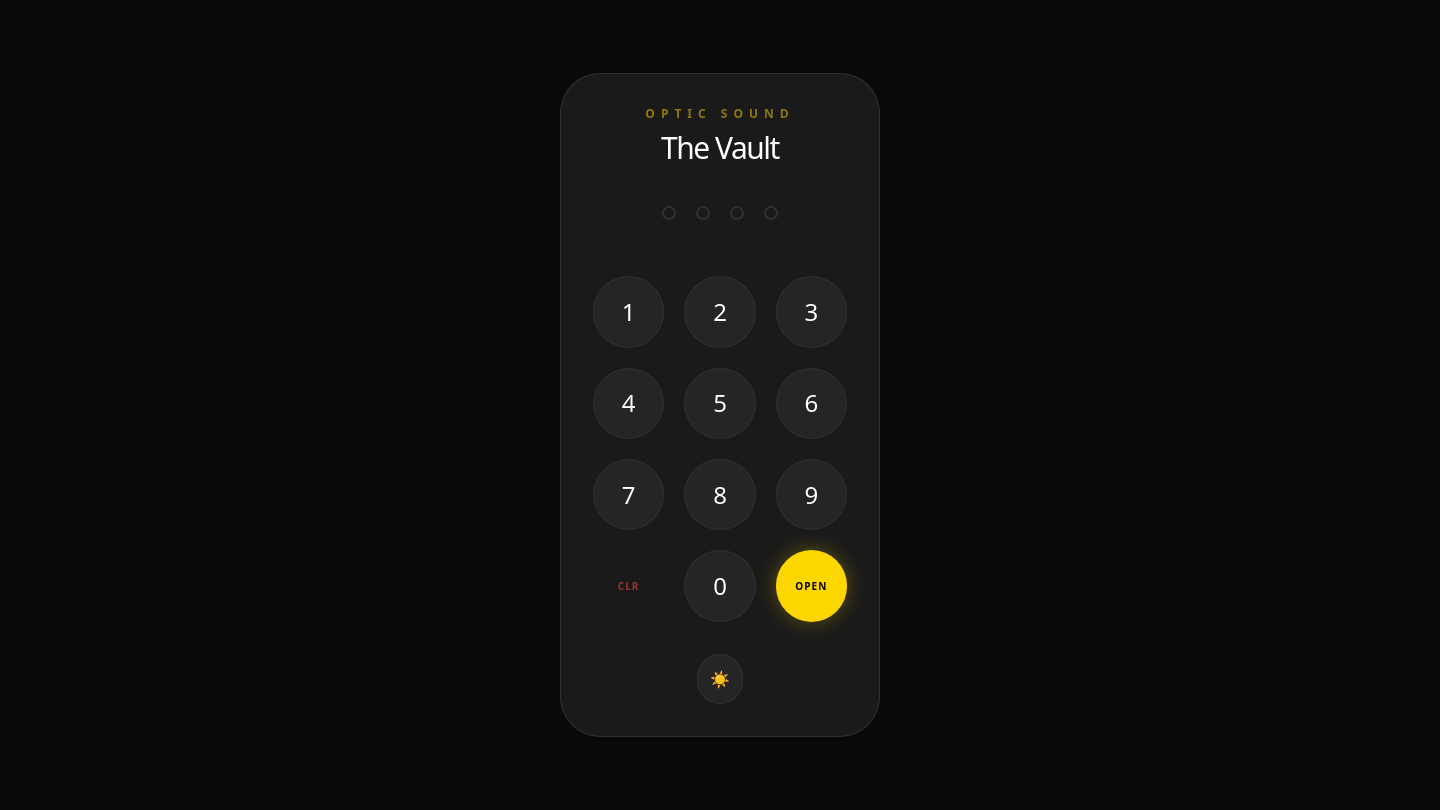
Test: App Component › renders login and unlocks
What coordinates should you click on to do the following:
click the button "1"
I would click on:
 (629, 312)
Its box is [593,276,664,348].
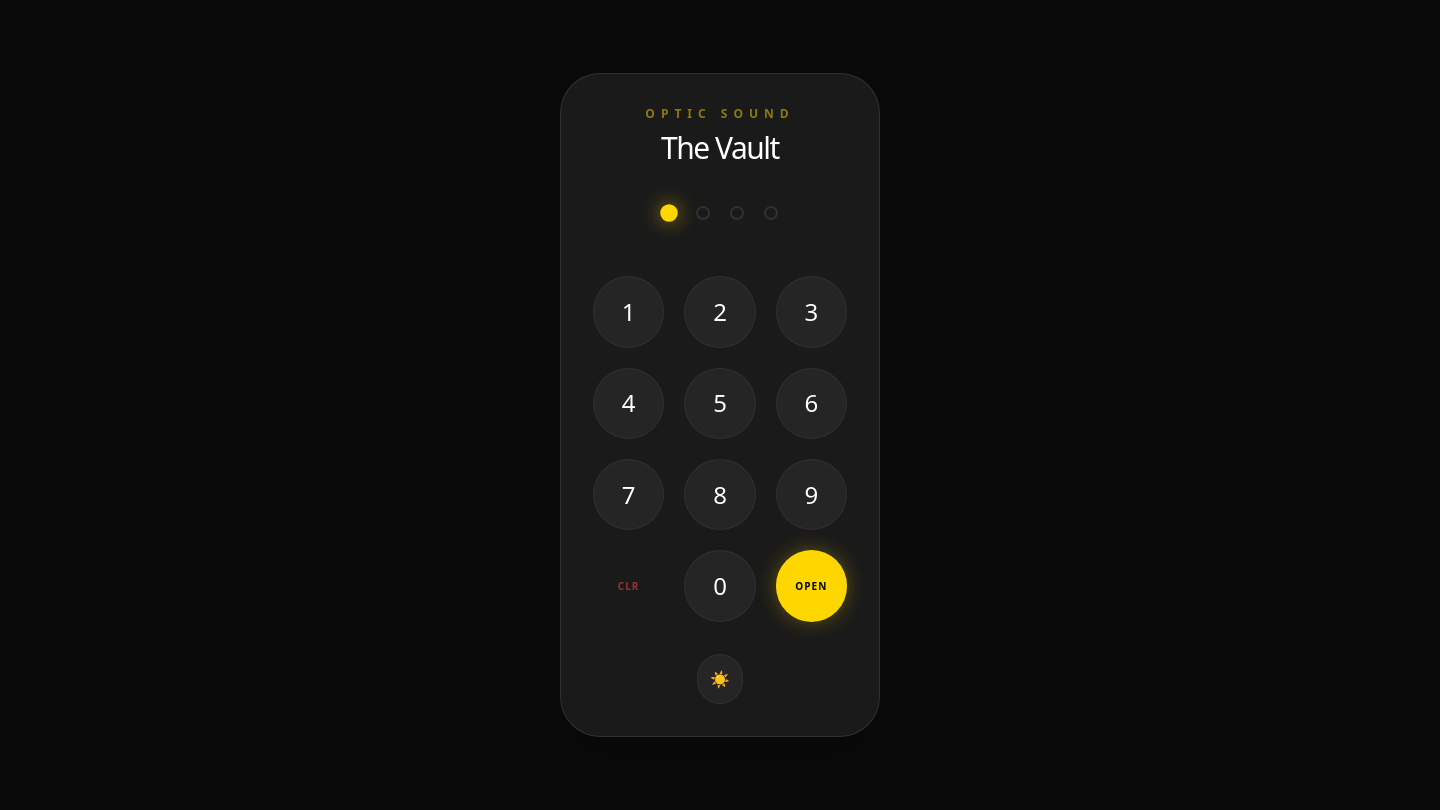
What coordinates should you click on to do the following:
click the button "2"
I would click on:
 (720, 312)
Its box is [684,276,756,348].
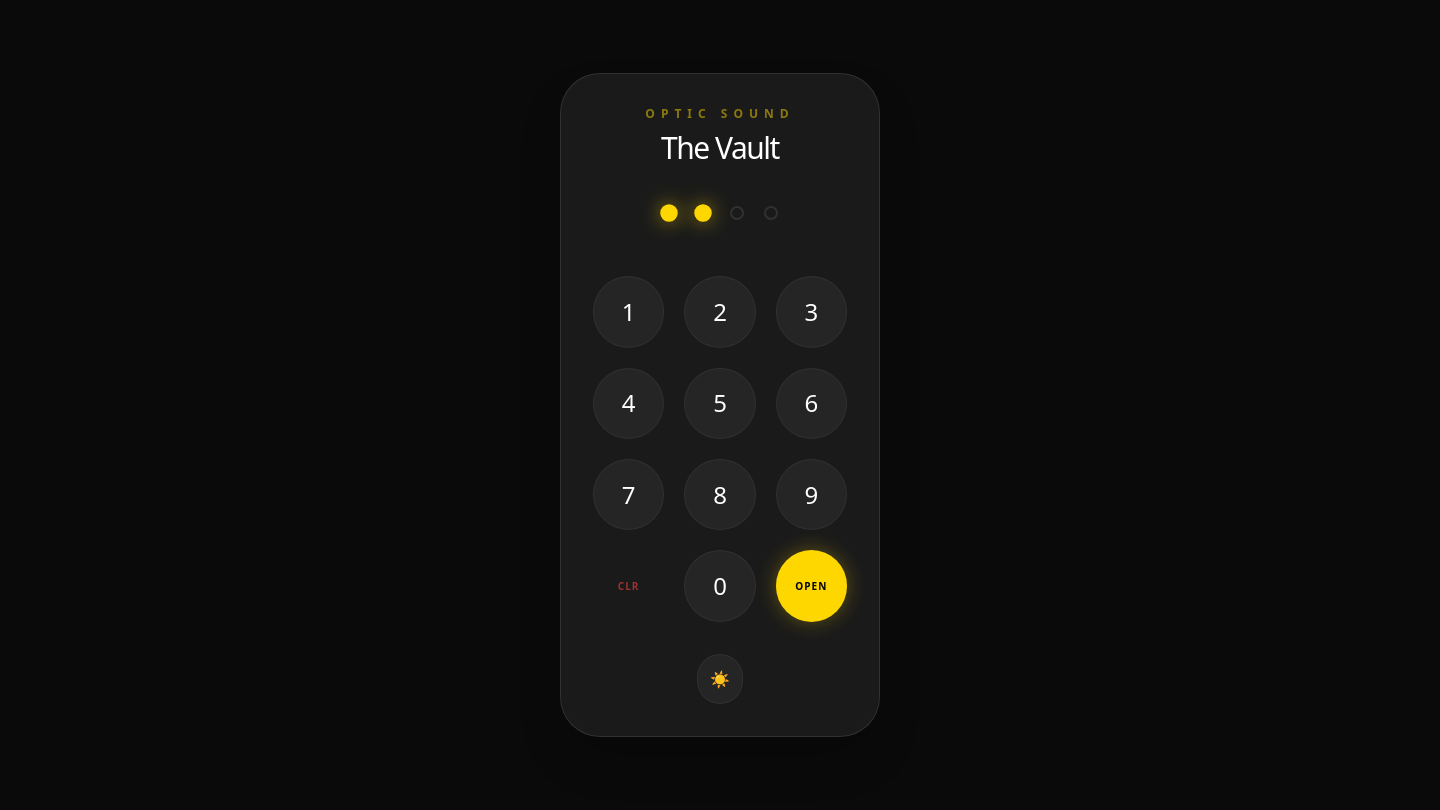
What coordinates should you click on to do the following:
click the button "3"
I would click on:
 (811, 312)
Its box is [776,276,847,348].
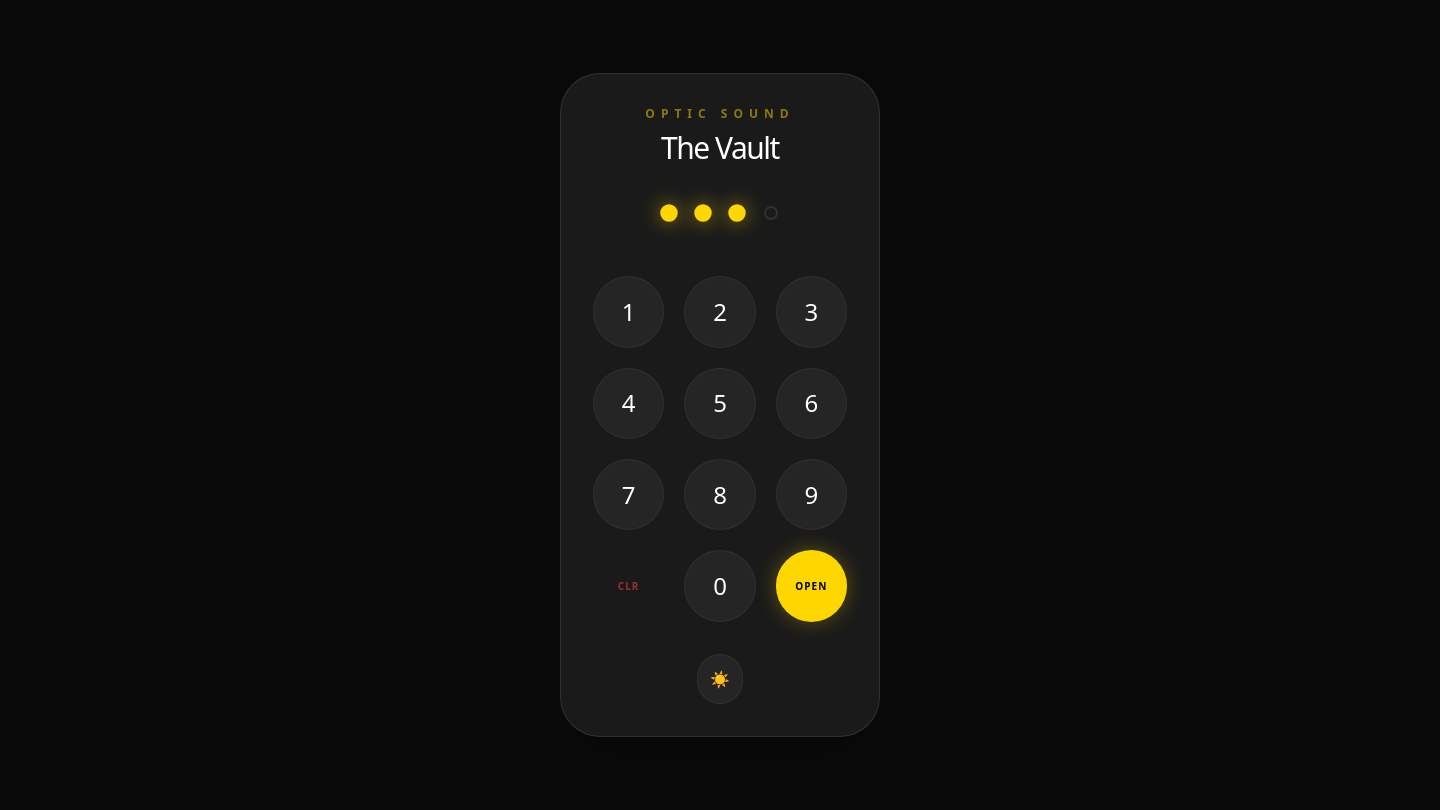
What coordinates should you click on to do the following:
click the button "4"
I would click on:
 (629, 403)
Its box is [593,368,664,439].
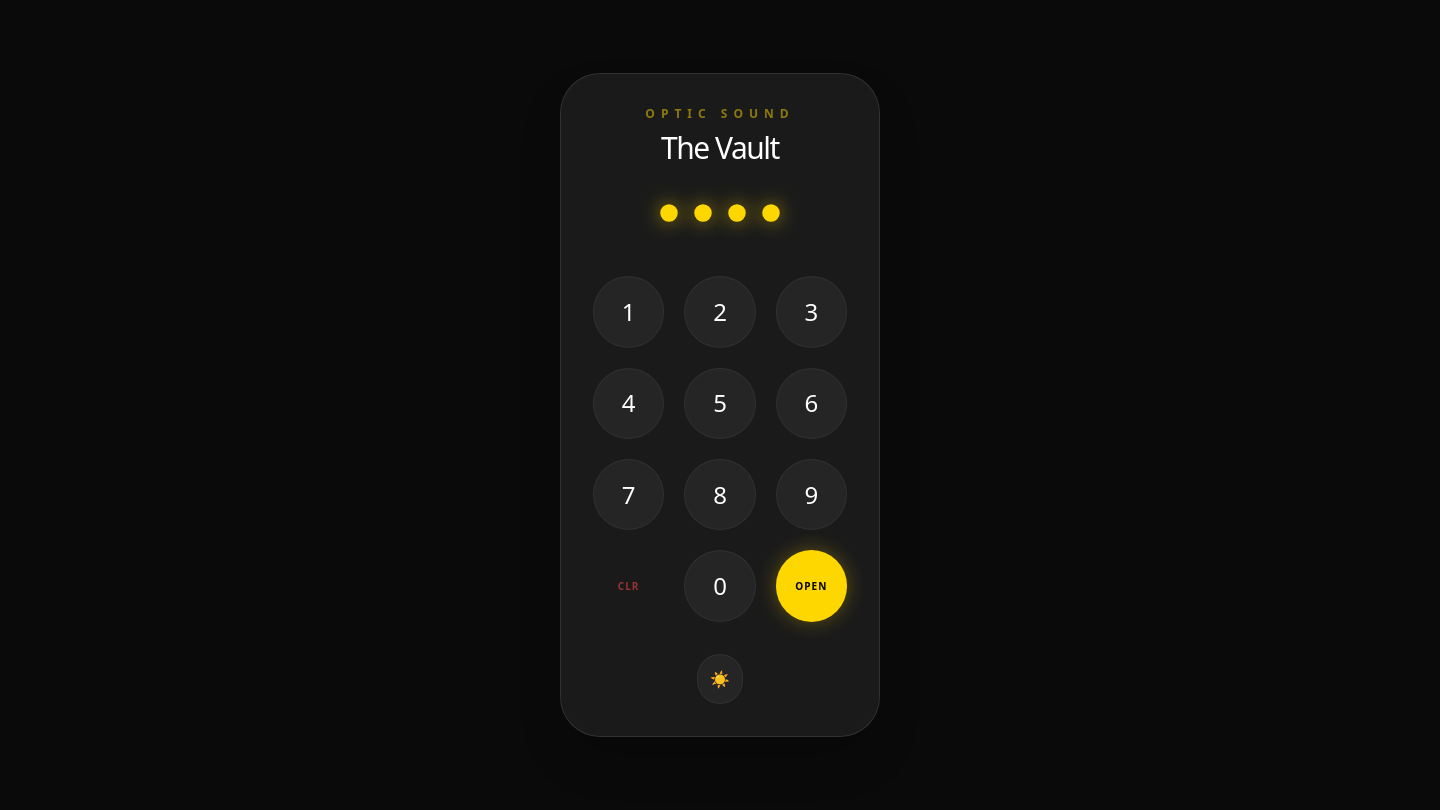
What coordinates should you click on to do the following:
click the button "Open"
I would click on:
 (811, 586)
Its box is [776,550,847,622].
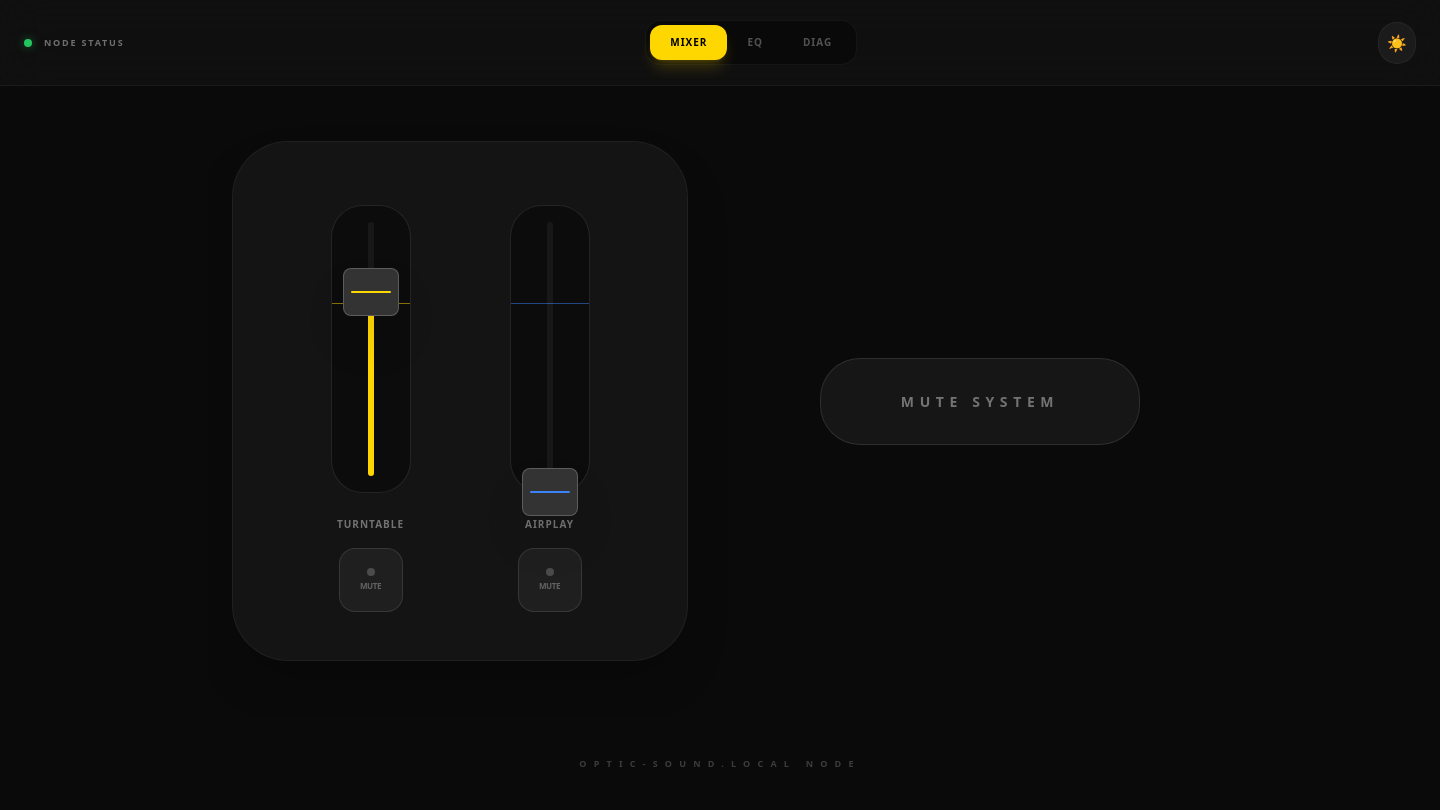
expect the button "Mixer" is shown: met, box [650,25,727,60]
